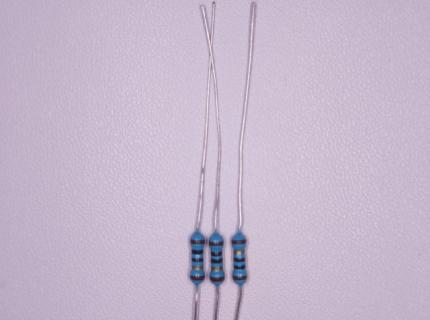Black band: (191, 257, 203, 262), (211, 251, 222, 256), (234, 264, 245, 269), (192, 250, 203, 254), (211, 259, 222, 263), (233, 258, 244, 262)
Brown band: (231, 239, 246, 244), (190, 239, 205, 244), (233, 275, 247, 280), (210, 277, 224, 282), (209, 241, 223, 246), (190, 275, 204, 280)
Gold band: (191, 265, 202, 270), (211, 266, 222, 271), (234, 250, 244, 254)
